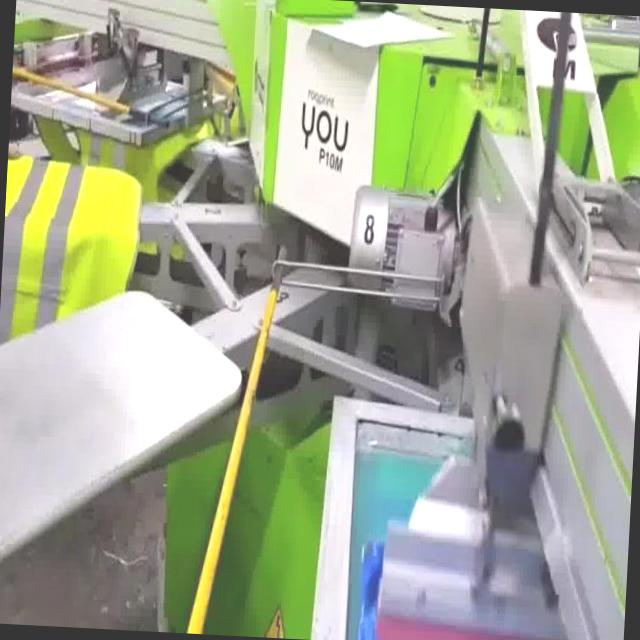vest: (0, 154, 145, 349)
